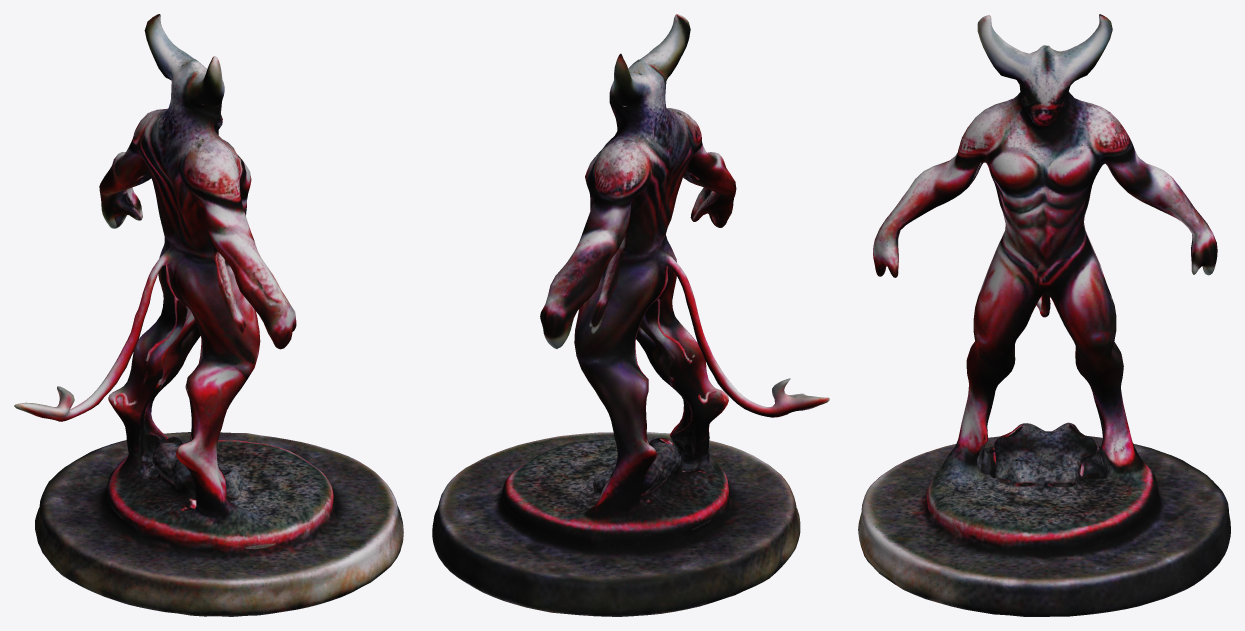
File: Statue 1.fbx
3 renders of one model, left to right at view 1: azimuth 30°, elevation 25°; view 2: azimuth 150°, elevation 25°; view 3: azimuth 270°, elevation 25°, orthographic.
Visible parts, largest first — view 1: mesh; view 2: mesh; view 3: mesh.
Boxes of the visible parts, bbox=[...] form: mesh: bbox=[14, 14, 403, 616]; mesh: bbox=[432, 14, 829, 616]; mesh: bbox=[858, 14, 1230, 616].
Size of the model in its own units: 74.47 by 99.74 by 65.7.
